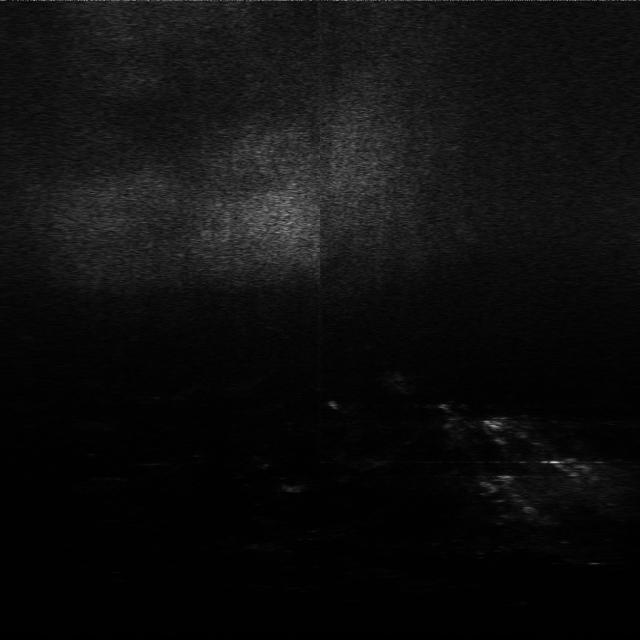rov: (481, 416, 507, 430)
